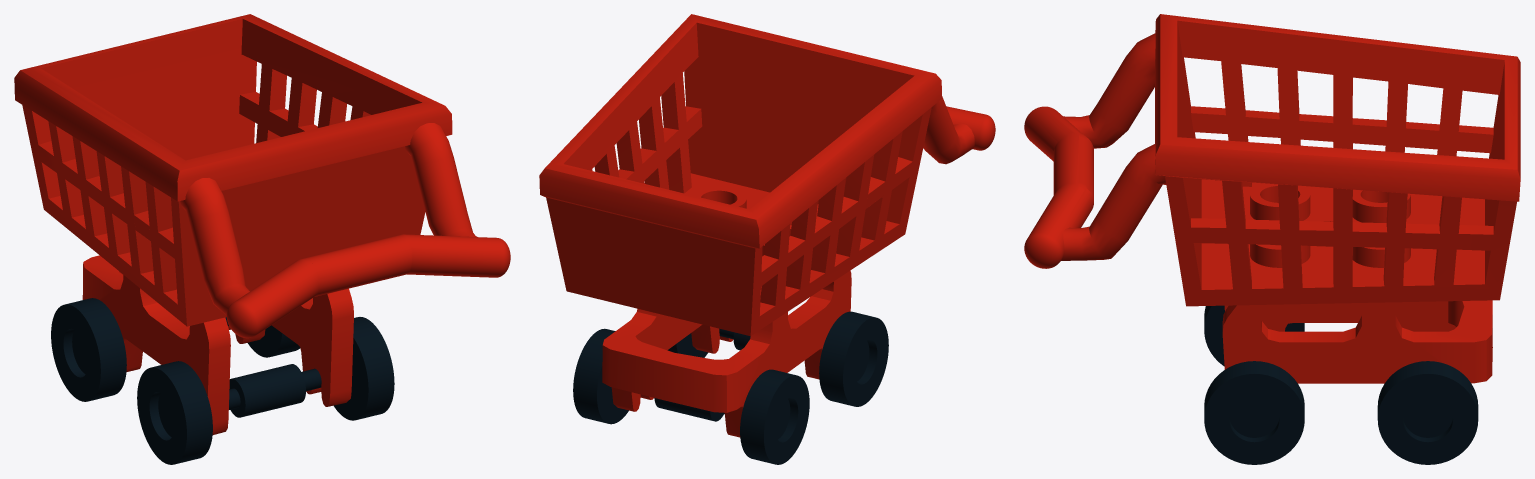
Rendered from lego-carro.glb.
The picture shows the model from 3 angles, left to right: view 1: azimuth 30°, elevation 25°; view 2: azimuth 150°, elevation 25°; view 3: azimuth 270°, elevation 25°; orthographic projection. The views are drawn at different scales.
Parts seen in each view (by area): view 1: Carro.003; view 2: Carro.003; view 3: Carro.003.
Part boxes in pixels (bbox=[...]): Carro.003: bbox=[14, 14, 510, 464]; Carro.003: bbox=[539, 14, 995, 464]; Carro.003: bbox=[1024, 14, 1520, 464].
Size of the model in its own units: 0.7032 by 0.8072 by 1.08.
